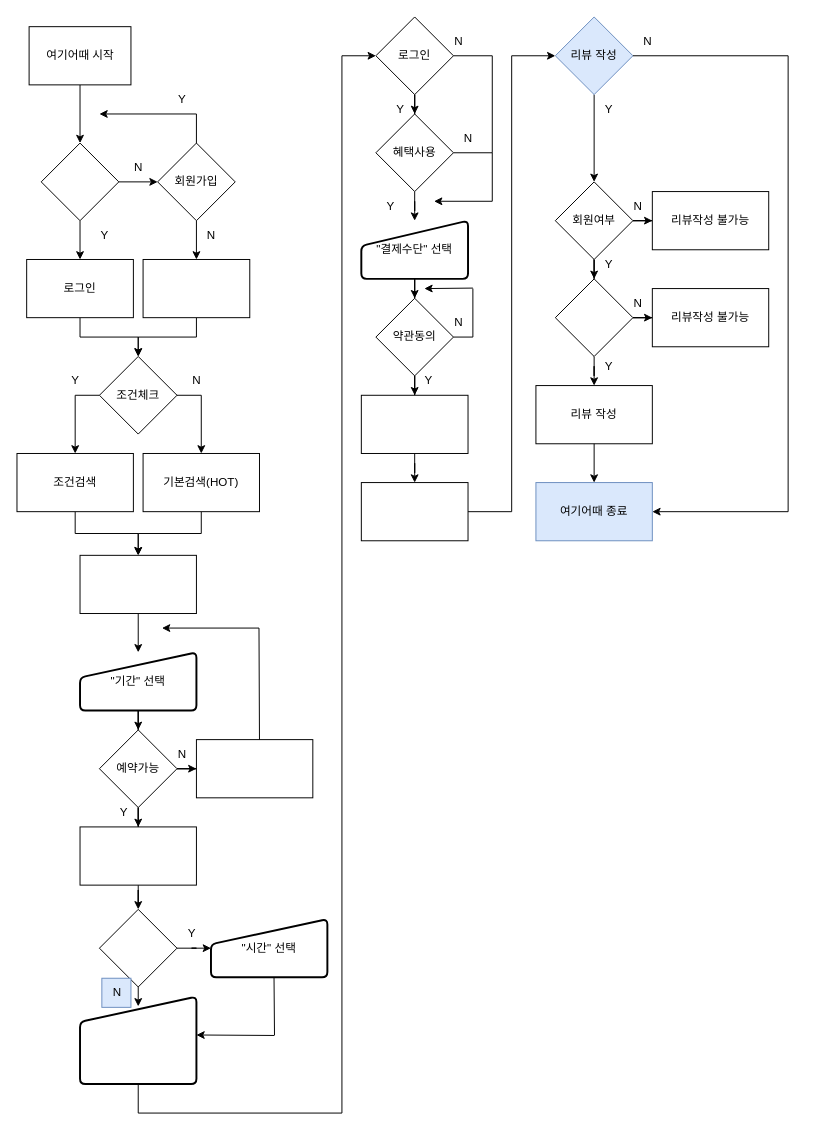
Some shapes in this 813 by 1138 pixel diagram are drawn without their labels. The centre of each missing label's shape, as x and y in pixels:
"예약자 이름" 입력 "휴대폰번호" 인증: (138,1039)
[결제하기]버튼 클릭: (414,423)
[예약]버튼 클릭: (137,855)
가입여부: (79,181)
대실여부: (137,947)
비회원: (196,288)
숙소선택: (137,584)
숙소에 문의 하세요: (254,768)
예약완료: (414,511)
이용여부: (593,317)
